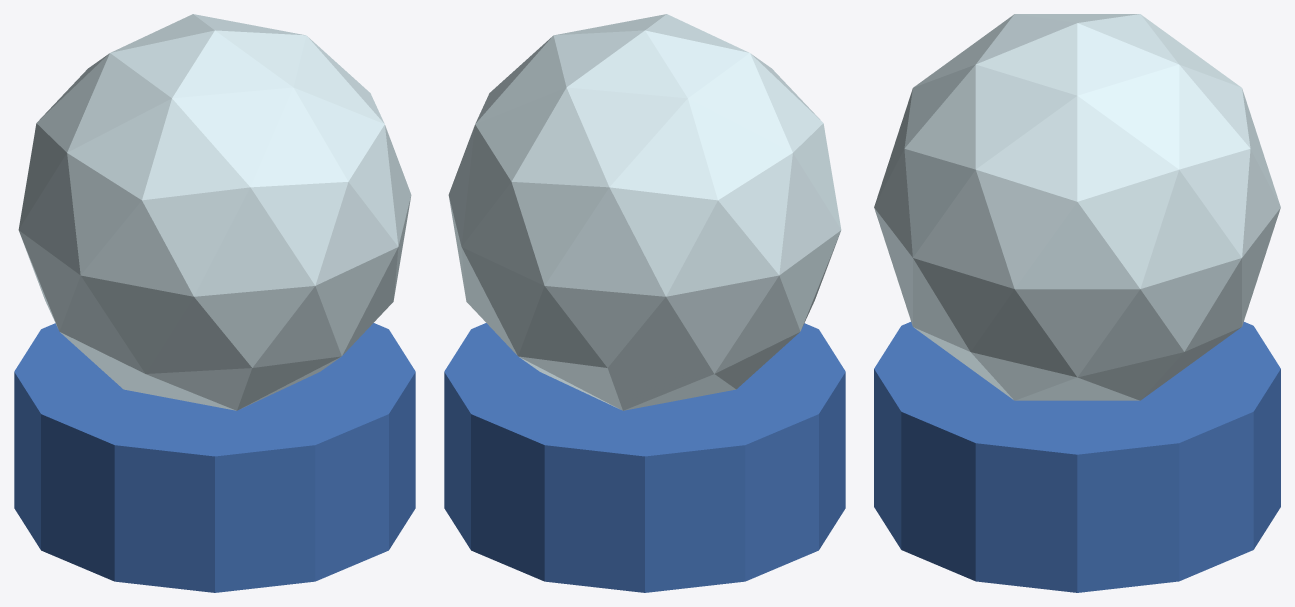
The model's file is sm_product_snow_globe.glb.
3 views of the same model, side by side, from view 1: azimuth 30°, elevation 25°; view 2: azimuth 150°, elevation 25°; view 3: azimuth 270°, elevation 25° (orthographic).
Visible parts, largest first — view 1: snow_globe_1, snow_globe_0; view 2: snow_globe_1, snow_globe_0; view 3: snow_globe_1, snow_globe_0.
Boxes of the visible parts, x1,y1,x2,y2 form: snow_globe_1: (18,14,411,410); snow_globe_0: (14,323,415,592); snow_globe_1: (448,14,841,410); snow_globe_0: (444,323,845,592); snow_globe_1: (874,14,1280,400); snow_globe_0: (874,322,1280,592).
Size of what is drawn, in the model's own units: 0.16 by 0.21 by 0.16.
